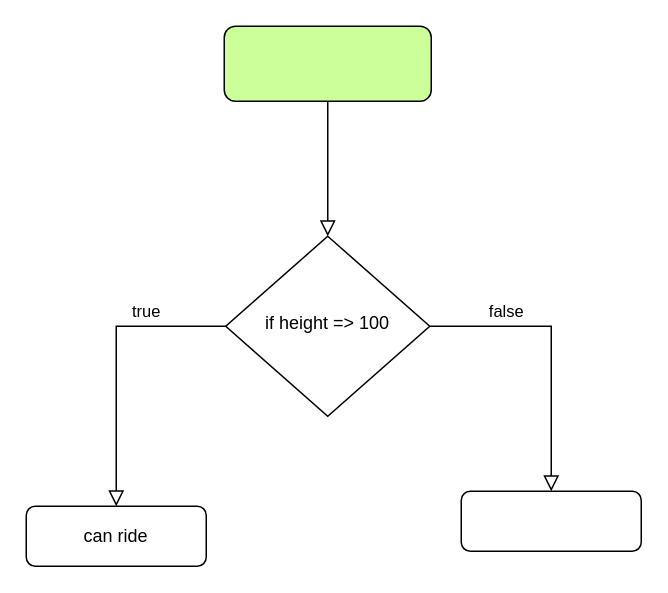
Image size: 668x593. Some labels were removed from this diagram. The shapes that lost their labels are listed below. From the top down, each one's box as (x1, y1, x2, y2) in pixels, then its label:
(223, 25, 431, 101): Start
(460, 490, 641, 551): can't ride
